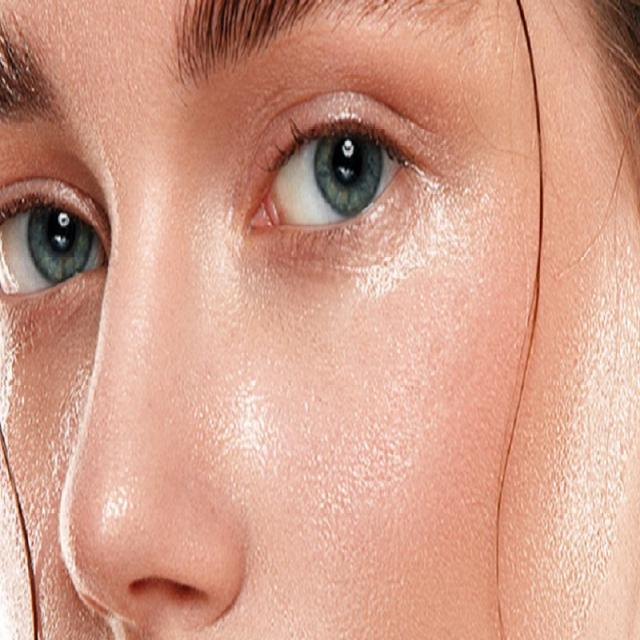Oily-Skin: (563, 343, 623, 580), (79, 468, 162, 582), (125, 162, 201, 275), (420, 175, 491, 268), (224, 426, 310, 488)
